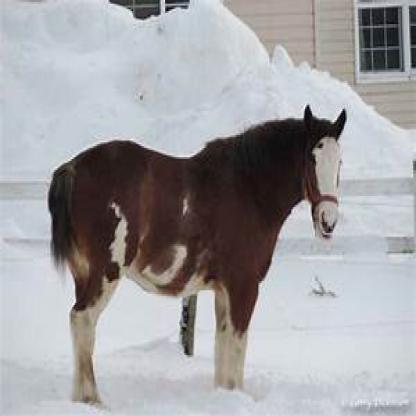horse: (44, 104, 348, 400)
